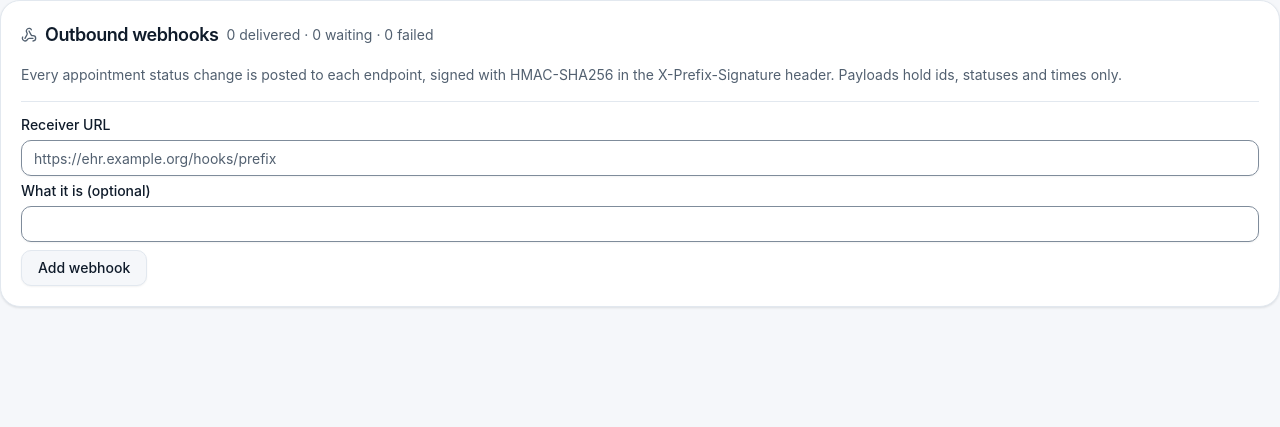
Test: webhooks › shows a new endpoint's secret once, after adding it
Type "https://ehr.example.org/hooks" into the field labelled "Receiver URL" at (640,158), box [21,140,1259,176]
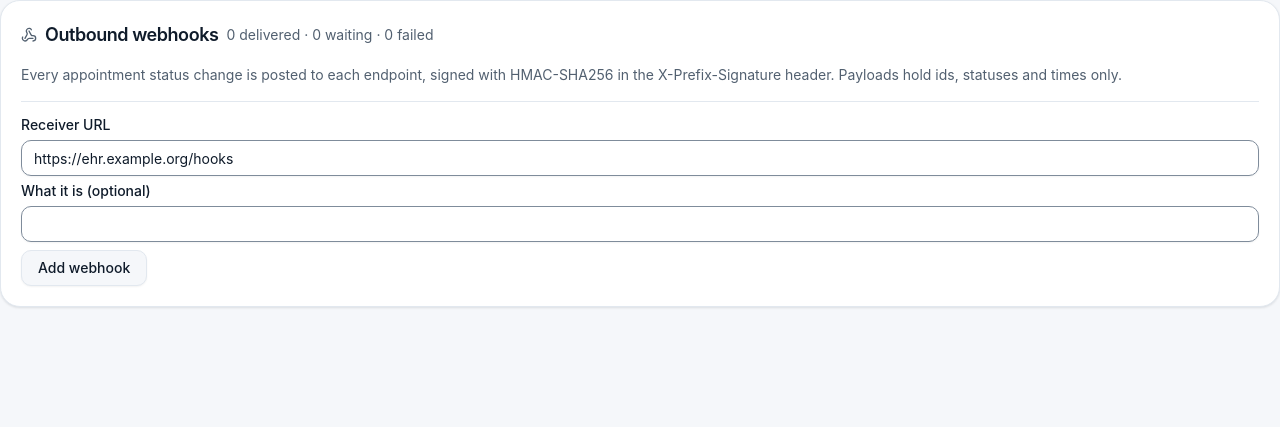
Click the button "Add webhook" at (84,268), box [21,250,147,286]
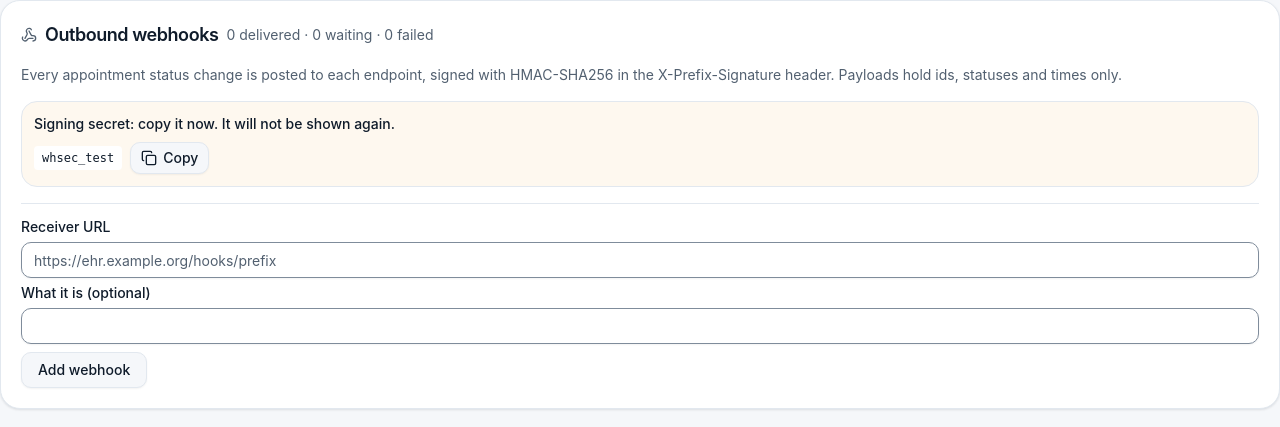
Expected: the message shows "It will not be shown again", [34,115,395,132]
